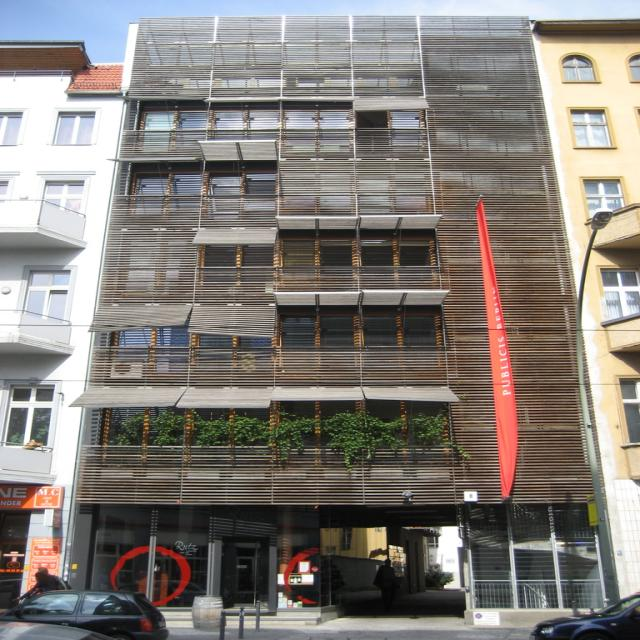car: (0, 574, 169, 633)
